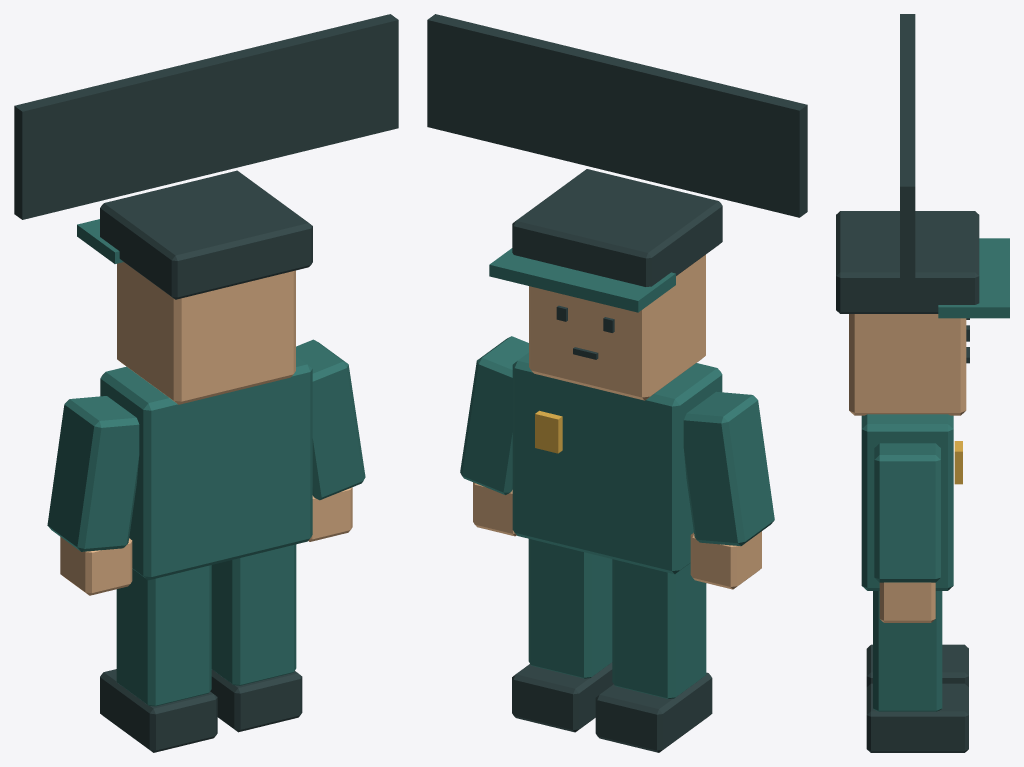
The model's file is warden_milo.fbx.
3 renders of one model, left to right at view 1: azimuth 30°, elevation 25°; view 2: azimuth 150°, elevation 25°; view 3: azimuth 270°, elevation 25°, orthographic. The views are drawn at different scales.
Parts seen in each view (by area): view 1: Nameplate, Uniform, Head, Cap, Trouser, Sleeve, Trouser.001, Sleeve.001, Boot, Boot.001, Hand, Hand.001 (+1 smaller); view 2: Nameplate, Uniform, Cap, Head, Trouser, Sleeve, Trouser.001, Sleeve.001, Boot, Boot.001, Visor, Hand (+2 smaller); view 3: Cap, Head, Sleeve.001, Uniform, Trouser.001, Boot.001, Nameplate, Visor, Hand.001, Boot, Badge.
Boxes of the visible parts, box(x1,y1,x2,y2) form: Nameplate: box(14, 14, 398, 219); Uniform: box(100, 356, 312, 580); Head: box(117, 262, 295, 404); Cap: box(100, 170, 312, 299); Trouser: box(116, 565, 211, 706); Sleeve: box(47, 396, 139, 551); Trouser.001: box(211, 544, 296, 685); Sleeve.001: box(296, 339, 365, 500); Boot: box(100, 669, 217, 752); Boot.001: box(210, 669, 302, 732); Hand: box(60, 537, 132, 595); Hand.001: box(308, 487, 352, 541); Nameplate: box(427, 14, 807, 217); Uniform: box(512, 352, 722, 574); Cap: box(512, 169, 722, 286); Head: box(529, 254, 705, 400); Trouser: box(612, 559, 706, 698); Sleeve: box(683, 391, 774, 546); Trouser.001: box(528, 539, 612, 678); Sleeve.001: box(460, 336, 528, 494); Boot: box(595, 672, 712, 752); Boot.001: box(512, 662, 613, 732); Visor: box(489, 248, 675, 312); Hand: box(690, 531, 761, 589); Cap: box(836, 211, 979, 313); Head: box(849, 314, 966, 415); Sleeve.001: box(874, 443, 940, 582); Uniform: box(861, 414, 953, 590); Trouser.001: box(873, 591, 942, 711); Boot.001: box(866, 683, 968, 752); Nameplate: box(900, 14, 915, 288); Visor: box(938, 238, 1009, 318); Hand.001: box(879, 582, 935, 622); Boot: box(866, 644, 968, 686); Badge: box(954, 441, 962, 484).
Bounding box in the file's own units: 400 × 669 × 170.
